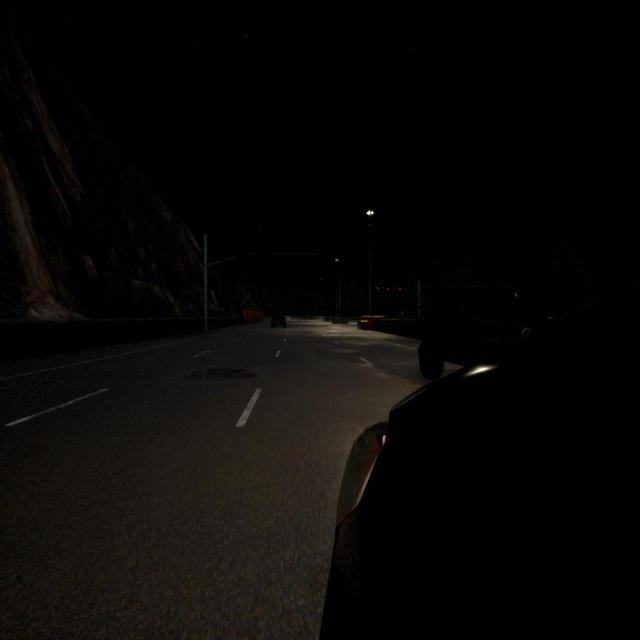Traffic_Signs: (401, 312, 403, 315)
Vehicle: (320, 286, 640, 638), (417, 287, 542, 379), (271, 312, 286, 328)
traffic_light: (387, 288, 389, 291), (399, 288, 401, 291), (377, 288, 379, 290), (418, 304, 420, 306)
